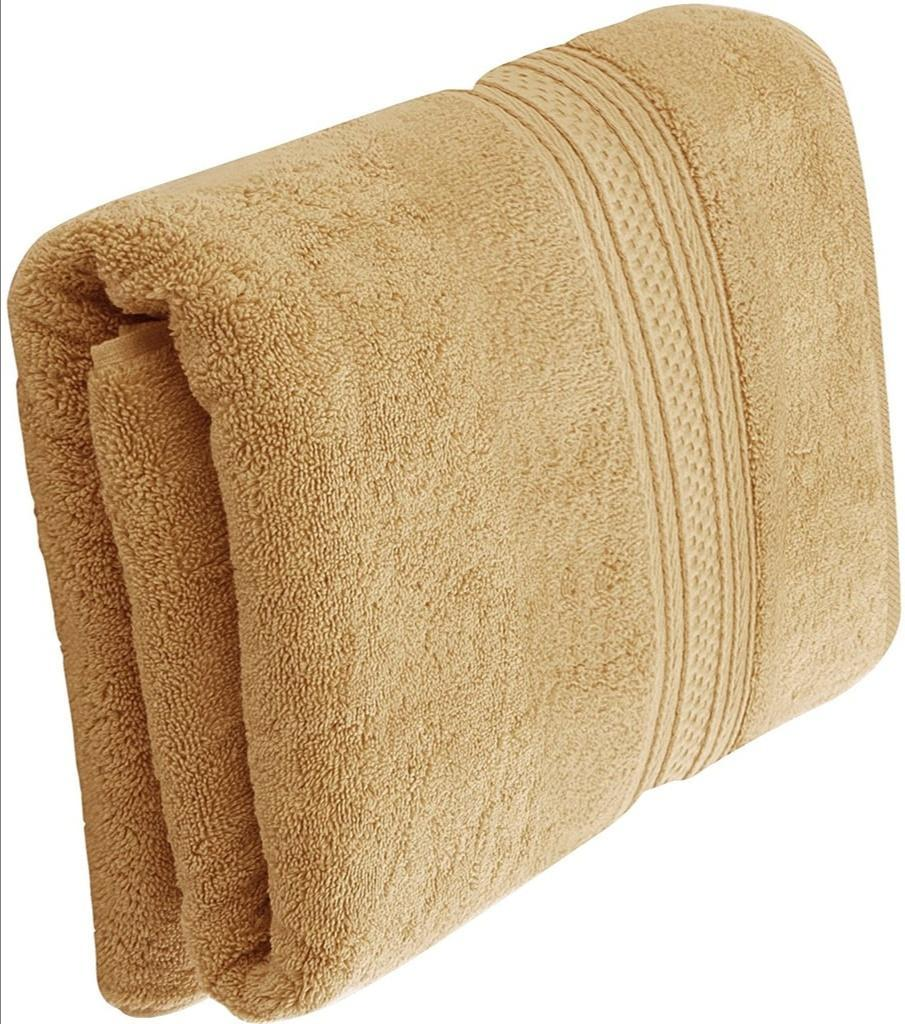towel: (0, 15, 905, 998)
